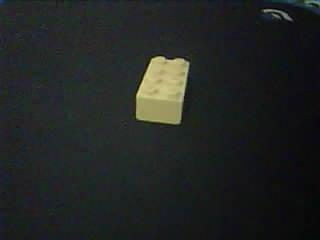lego: (134, 54, 191, 125)
